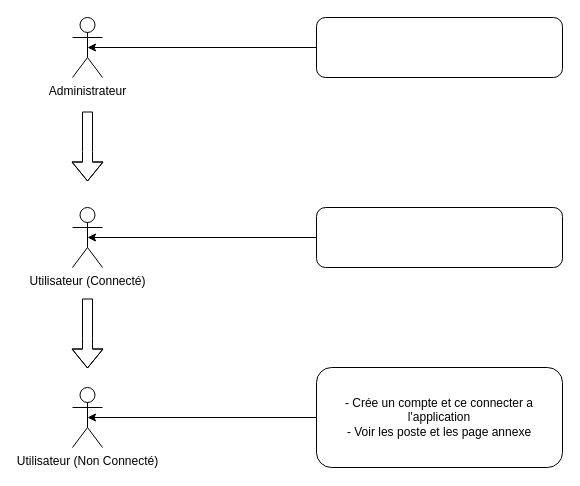
Image size: 580x486. Some labels were removed from this diagram. The centre of each missing label's shape, as x and y in pixels:
Poster / Modifier / Supprimer des commentaires lui appartenant: point (439, 237)
Poster / modifier / supprimer des nouveau post: point (439, 47)
